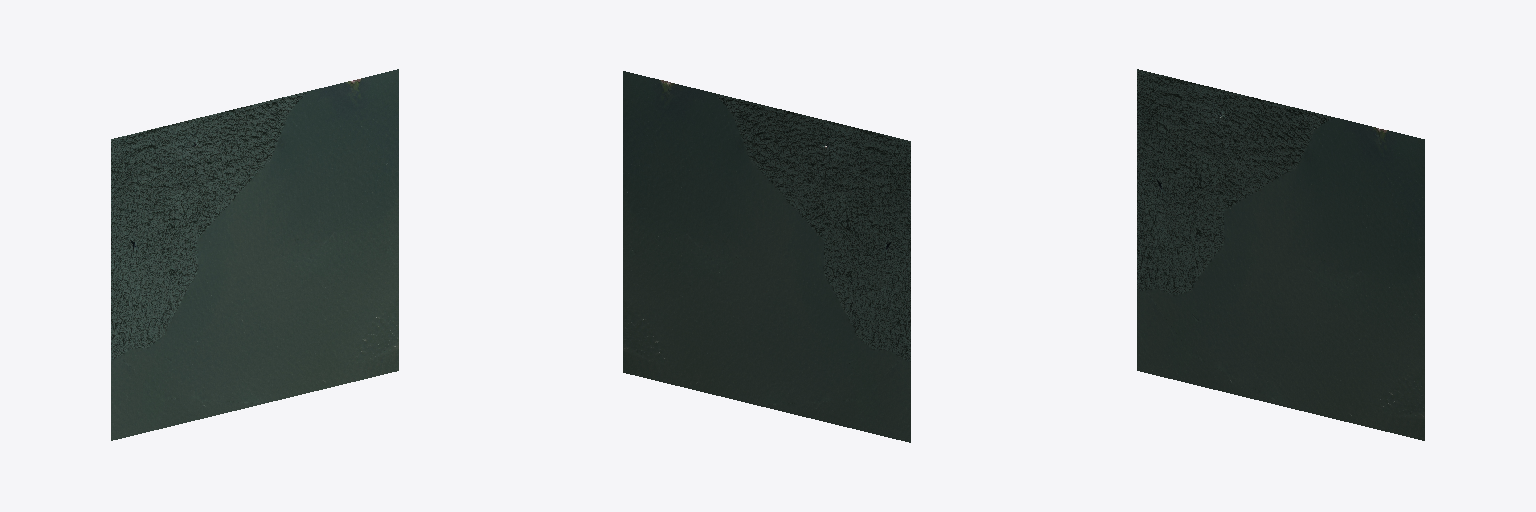
3 renders of one model, left to right at view 1: azimuth 30°, elevation 25°; view 2: azimuth 150°, elevation 25°; view 3: azimuth 330°, elevation 25°, orthographic.
Bounding box in the file's own units: 252 × 252 × 4.03.
Materials: 2 (1 with a texture image).